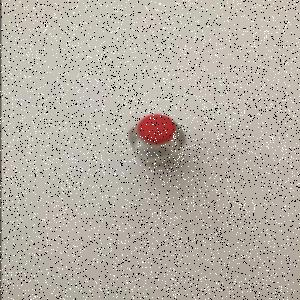Plastic-bottle: (127, 114, 187, 168)
